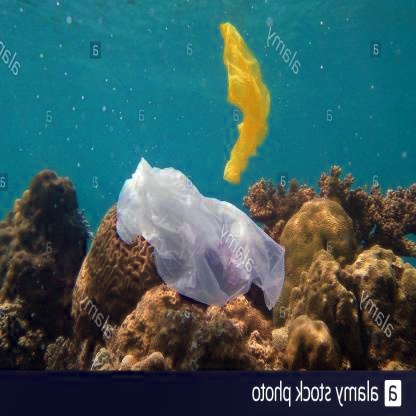pbag: (116, 156, 286, 310), (220, 21, 270, 183)
